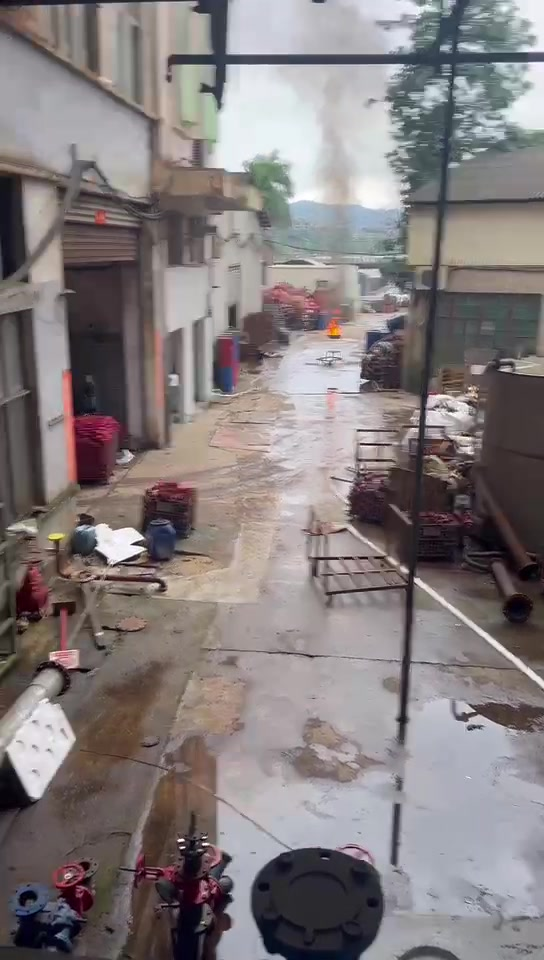fire: (329, 319, 341, 335)
